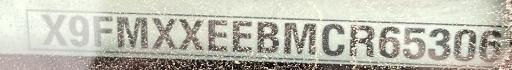letter: (280, 18, 318, 55), (114, 13, 150, 49), (346, 22, 376, 58), (40, 11, 70, 46), (178, 17, 206, 52), (318, 22, 346, 57), (152, 15, 178, 51), (255, 19, 281, 55), (400, 25, 426, 61), (426, 26, 452, 62), (452, 26, 478, 62), (66, 12, 92, 46), (230, 18, 254, 54), (478, 28, 502, 64), (377, 24, 401, 57), (91, 12, 113, 46), (206, 18, 228, 52)
